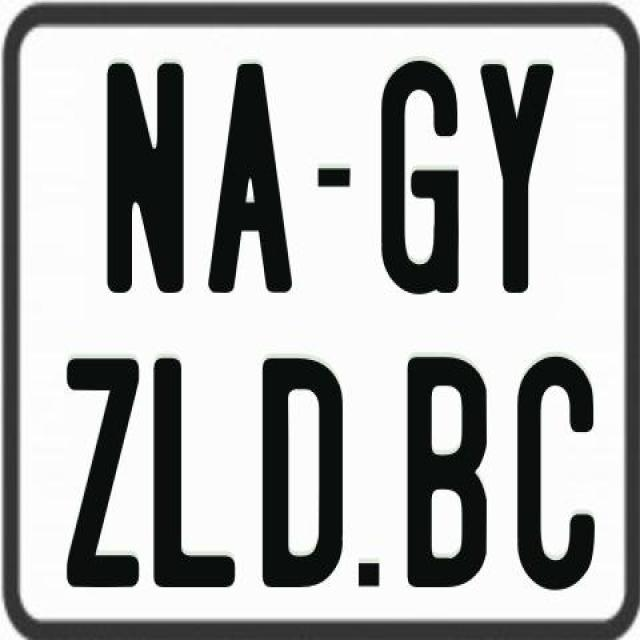A: (204, 62, 294, 296)
B: (406, 352, 494, 592)
C: (517, 356, 599, 594)
D: (260, 355, 340, 584)
G: (378, 58, 456, 296)
L: (150, 354, 237, 588)
N: (102, 58, 182, 290)
Y: (480, 61, 558, 296)
Z: (65, 357, 140, 587)
